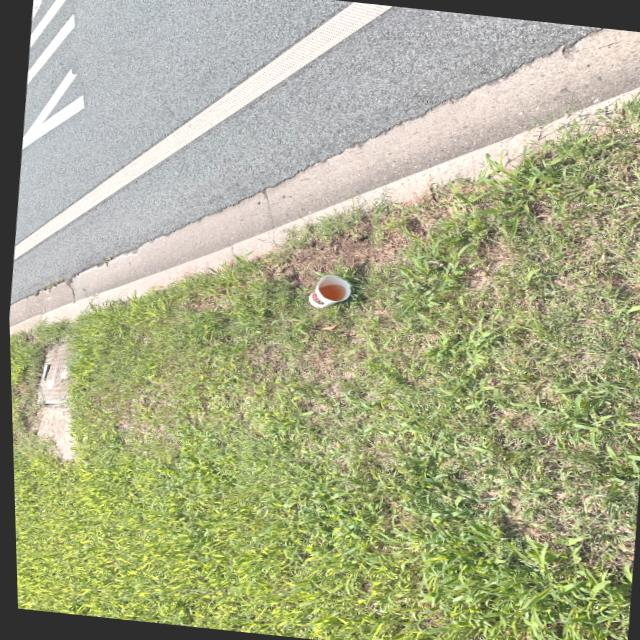Cup: (295, 268, 359, 315)
